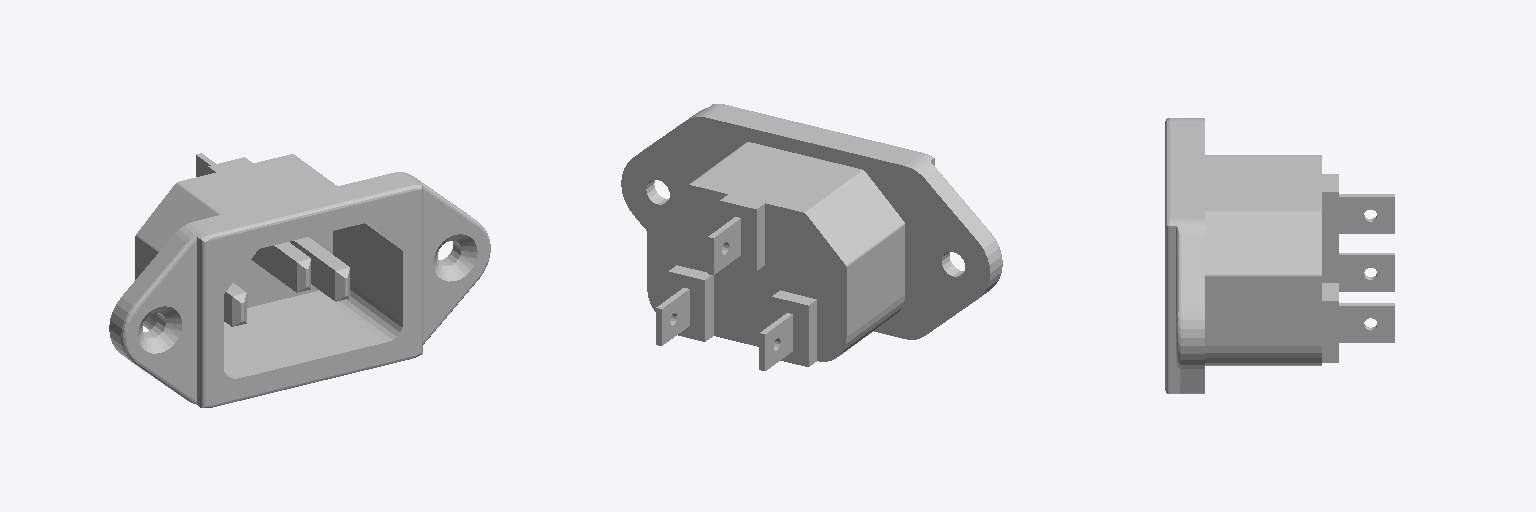
The model's file is AC Power outlet connector.obj.
3 renders of one model, left to right at view 1: azimuth 30°, elevation 25°; view 2: azimuth 150°, elevation 25°; view 3: azimuth 270°, elevation 25°, orthographic.
Visible parts, largest first — view 1: Solid4, Solid3, Solid1, Solid2; view 2: Solid4, Solid5, Solid6, Solid7; view 3: Solid4, Solid5, Solid7, Solid6.
Part boxes in pixels (x1,y1,x2,y2): Solid4: (109, 154, 490, 407); Solid3: (290, 237, 349, 301); Solid1: (251, 242, 310, 292); Solid2: (224, 283, 246, 326); Solid4: (621, 104, 1002, 366); Solid5: (656, 288, 689, 345); Solid6: (759, 313, 792, 370); Solid7: (708, 217, 740, 274); Solid4: (1165, 118, 1338, 393); Solid5: (1339, 303, 1394, 342); Solid7: (1339, 194, 1394, 233); Solid6: (1339, 253, 1394, 291).
Size of the model in its own units: 50 by 22.4 by 26.9.